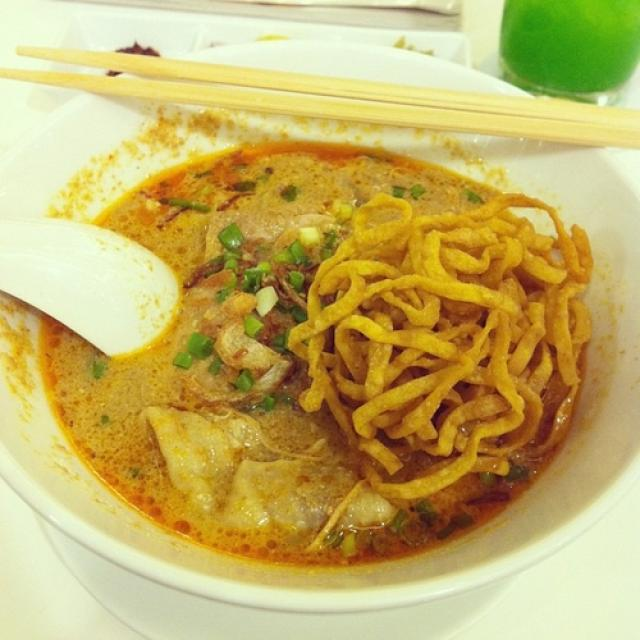面条主食: (40, 69, 609, 581)
